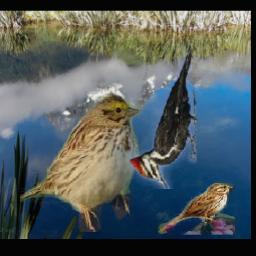Sparrow: (19, 91, 145, 233), (157, 181, 234, 235)
Woodpecker: (129, 39, 196, 190)
